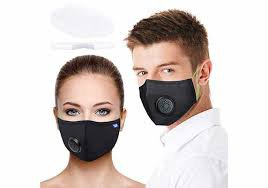mask: (125, 9, 233, 129), (47, 49, 139, 170)
